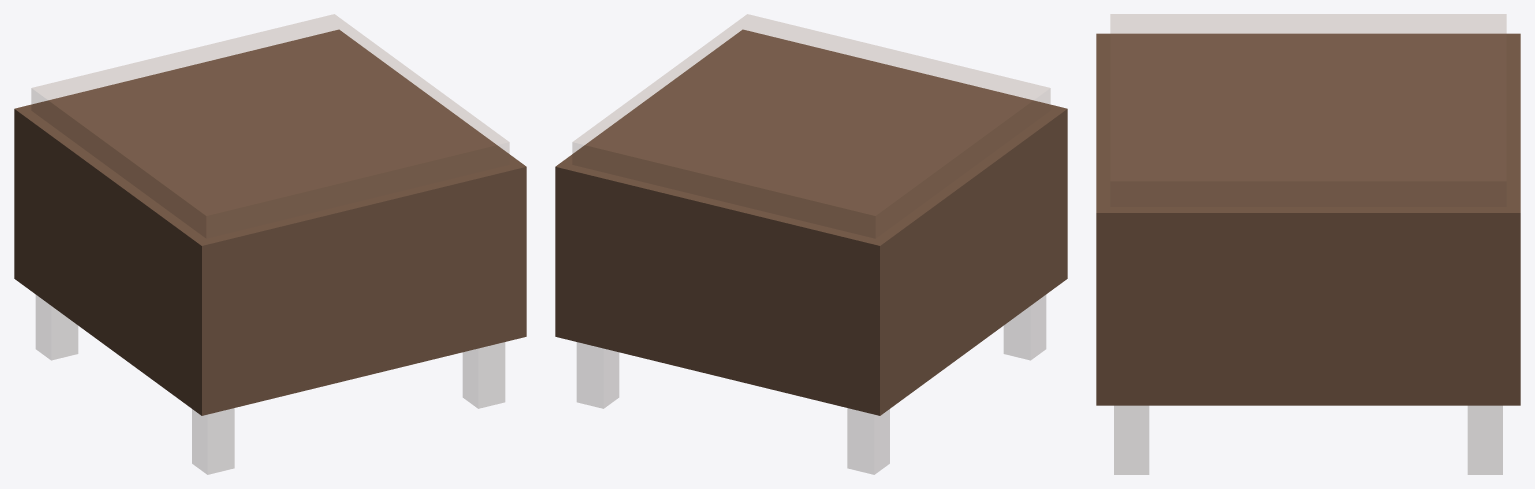
File: ottoman-ghost.glb
3 renders of one model, left to right at view 1: azimuth 30°, elevation 25°; view 2: azimuth 150°, elevation 25°; view 3: azimuth 270°, elevation 25°, orthographic. The views are drawn at different scales.
Bounding box in the file's own units: 0.6 × 0.46 × 0.6.
